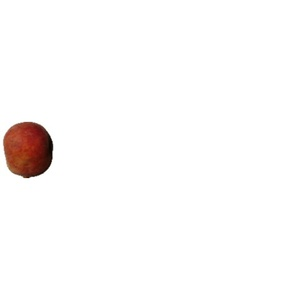pêssego: (1, 123, 53, 183)
